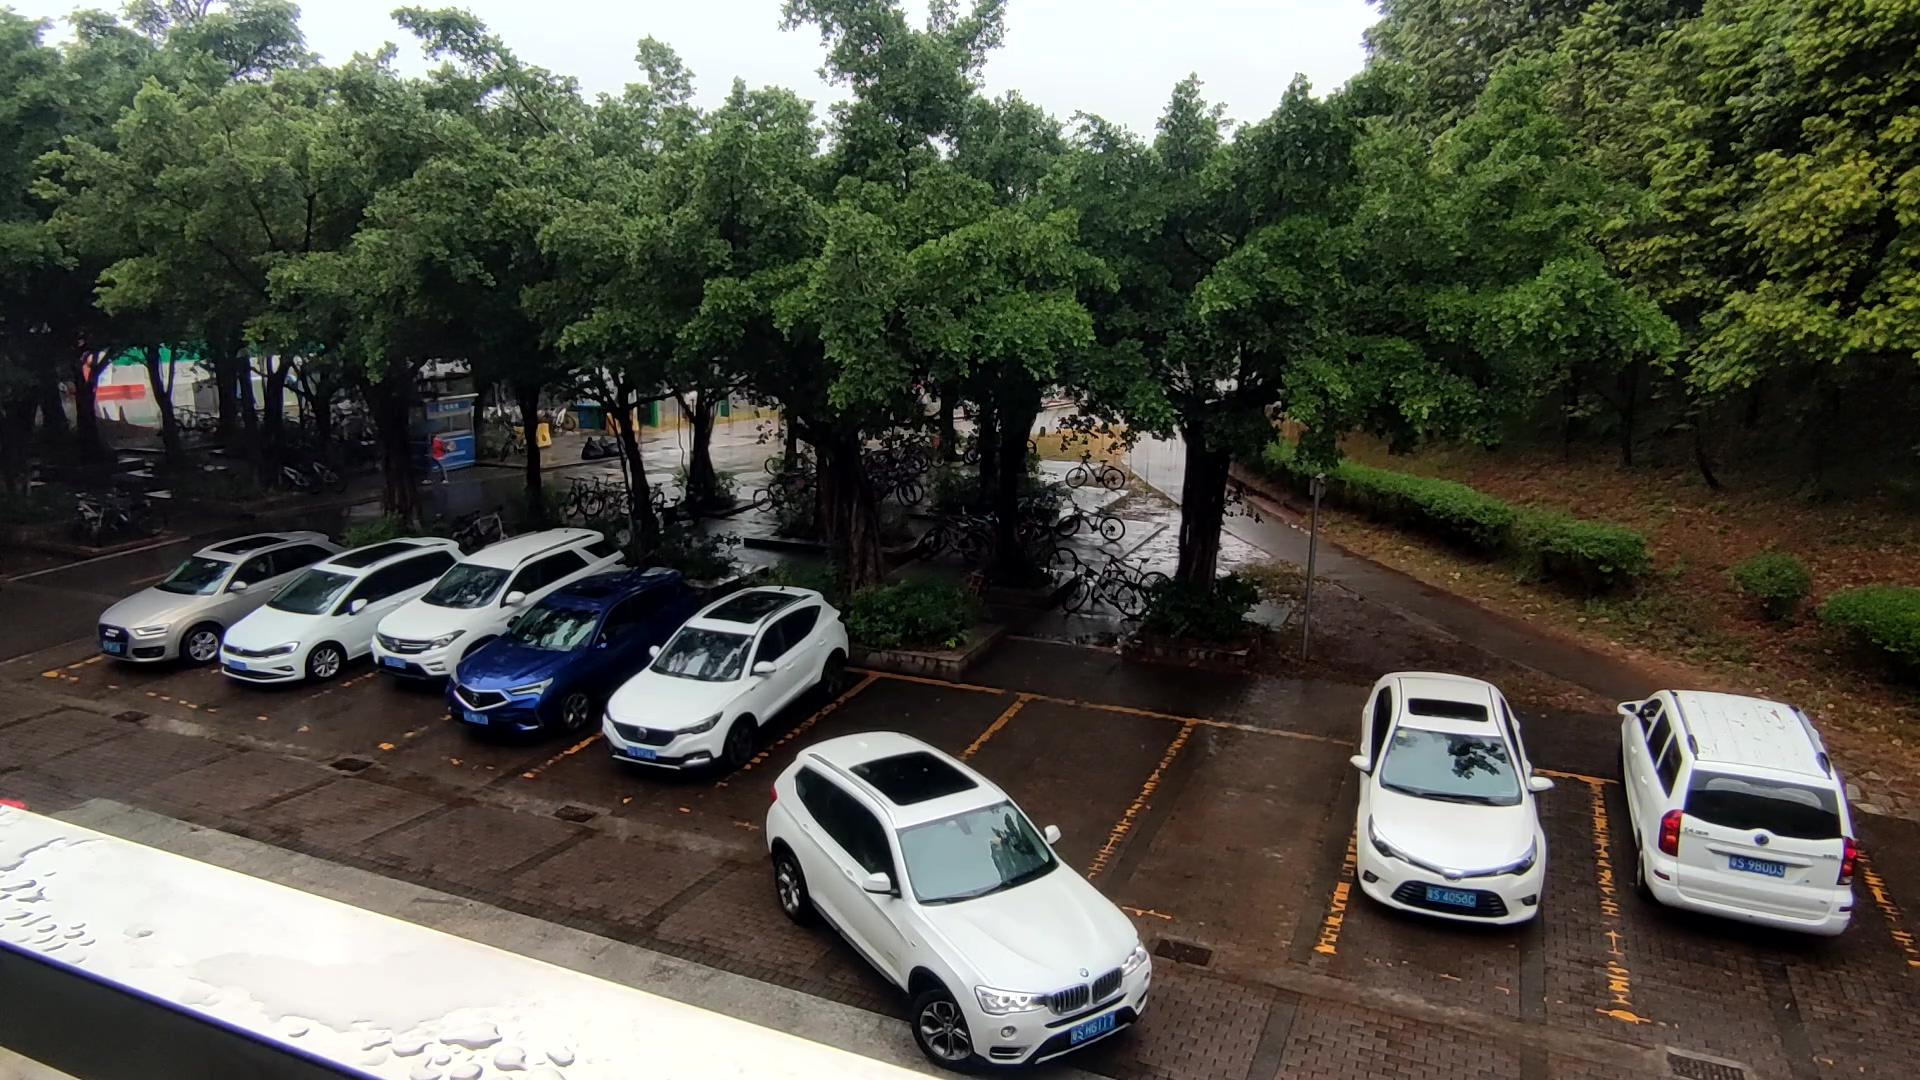space-empty: (1085, 694, 1375, 965), (895, 661, 1197, 919), (694, 644, 1021, 861)
space-occupied: (1327, 728, 1636, 1027), (1590, 774, 1905, 1052), (545, 632, 868, 810), (389, 609, 719, 781), (276, 585, 601, 745), (152, 560, 452, 709)
